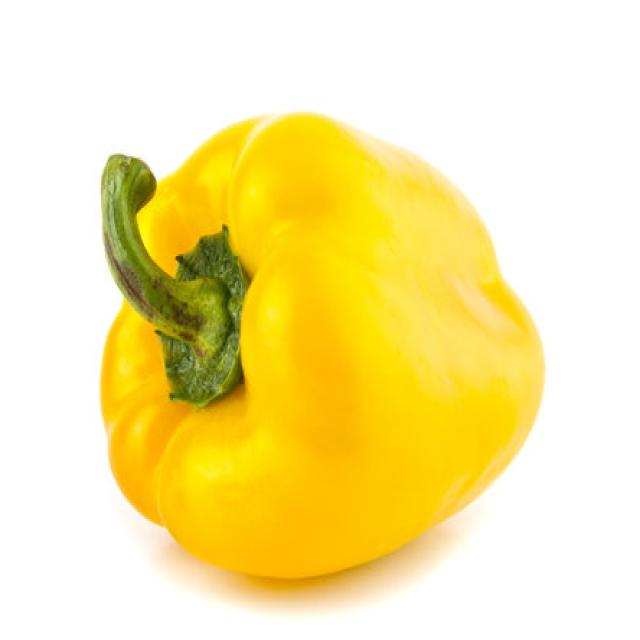Bell Pepper: (98, 109, 545, 582)
